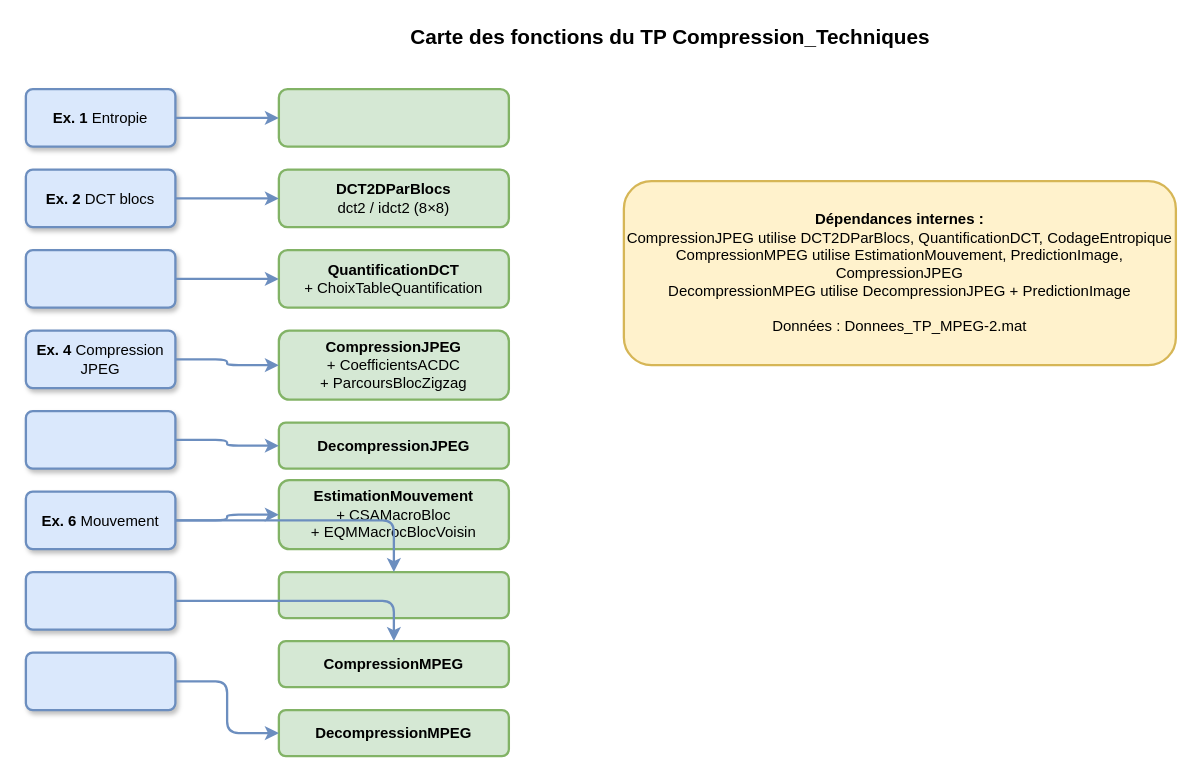
Some shapes in this 1196 by 776 pixel diagram are drawn without their labels. Here are the shapes that lost their labels. From the top down, the centre of each, then its label:
At pixel 393 117: "CodageEntropique H = −Σ f·log₂(f)".
At pixel 101 280: "Ex. 3 Quantification".
At pixel 101 441: "Ex. 5 Décompression JPEG".
At pixel 101 602: "Ex. 7 Compression MPEG".
At pixel 393 594: "PredictionImage".
At pixel 101 682: "Ex. 8 Décompression MPEG".
